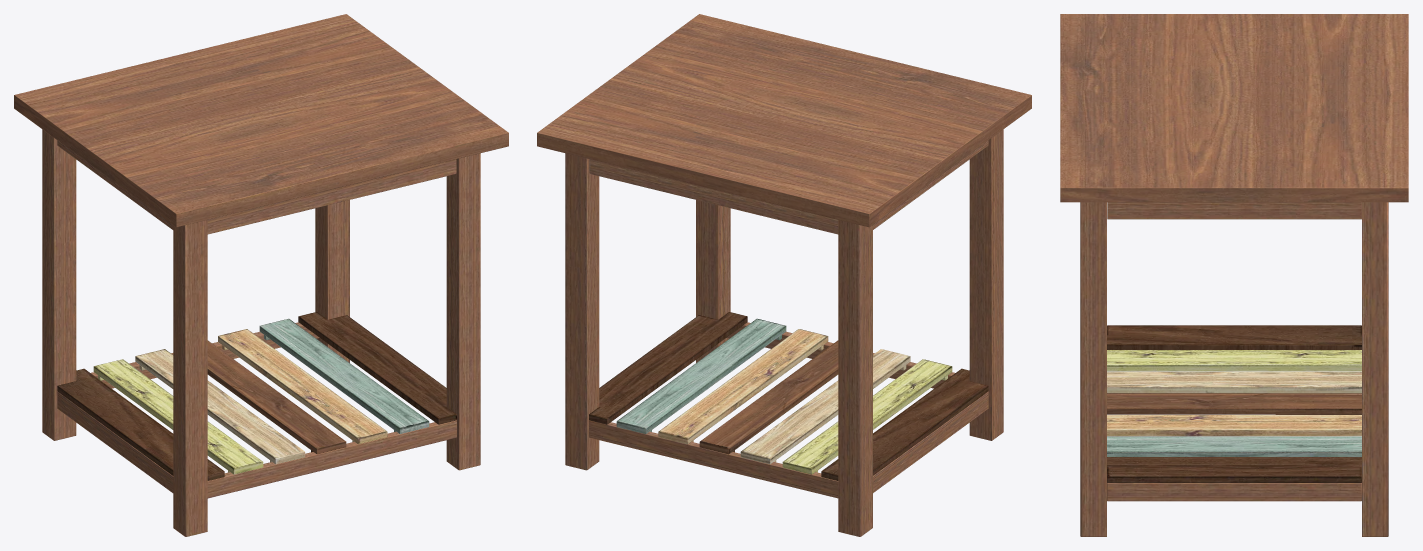
The picture shows the model from 3 angles, left to right: view 1: azimuth 30°, elevation 25°; view 2: azimuth 150°, elevation 25°; view 3: azimuth 270°, elevation 25°; orthographic projection. The views are drawn at different scales.
Parts seen in each view (by area): view 1: B07H2J7689; view 2: B07H2J7689; view 3: B07H2J7689.
Part boxes in pixels (x1=…): B07H2J7689: x1=14, y1=14, x2=508, y2=536; B07H2J7689: x1=537, y1=14, x2=1031, y2=536; B07H2J7689: x1=1060, y1=14, x2=1408, y2=536.
Size of the model in its own units: 0.6604 by 0.635 by 0.5588.
Materials: 1 (1 with a texture image).
